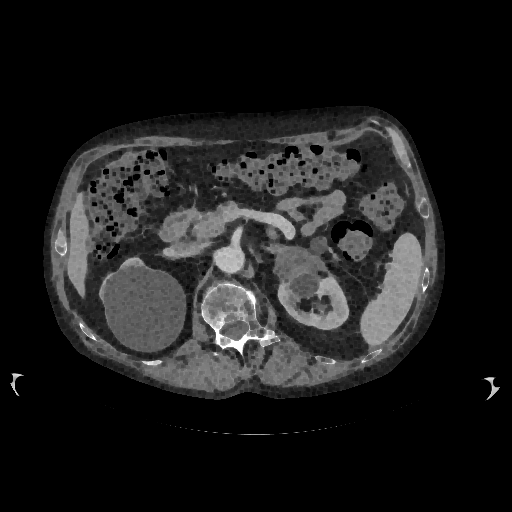Lesion: (271, 242, 322, 283)
